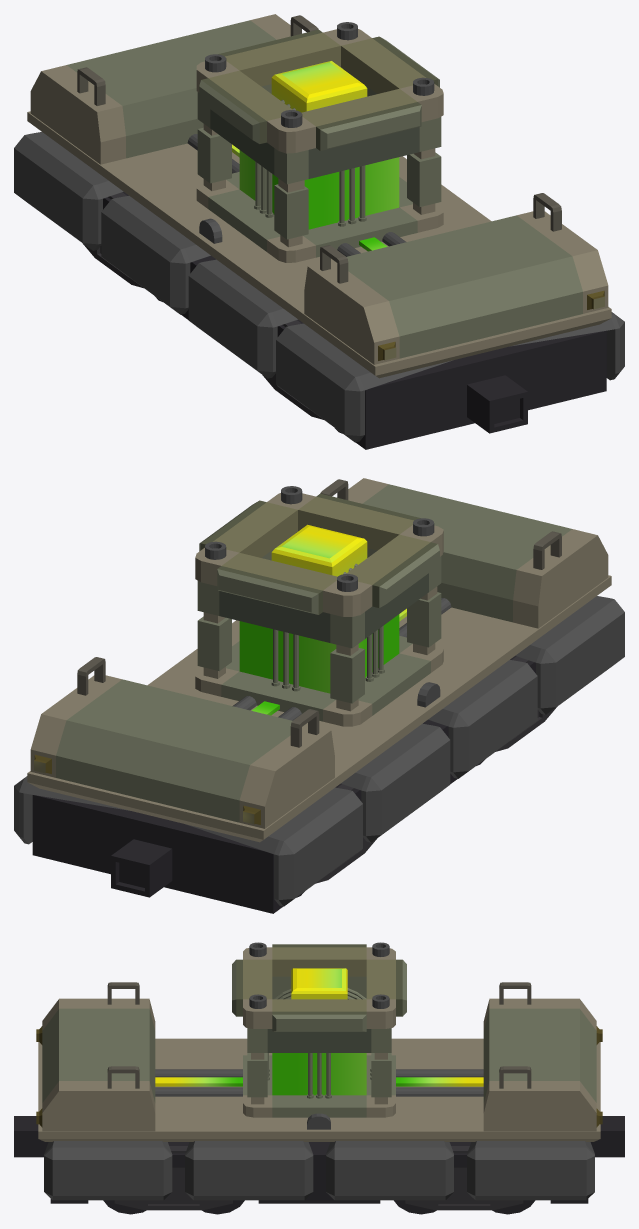
Rendered from mesh_util_0.fbx.
3 renders of one model, top to bottom at view 1: azimuth 30°, elevation 25°; view 2: azimuth 150°, elevation 25°; view 3: azimuth 270°, elevation 25°, orthographic. The views are drawn at different scales.
Parts seen in each view (by area): view 1: util_0_base, util_0_com; view 2: util_0_base, util_0_com; view 3: util_0_base, util_0_com.
Part boxes in pixels (<box>): util_0_base: <box>14,14,624,449</box>; util_0_com: <box>196,22,443,262</box>; util_0_base: <box>14,478,624,913</box>; util_0_com: <box>195,486,443,726</box>; util_0_base: <box>14,982,624,1214</box>; util_0_com: <box>232,942,406,1117</box>.
Size of the model in its own units: 3.59 by 3.09 by 8.39.
